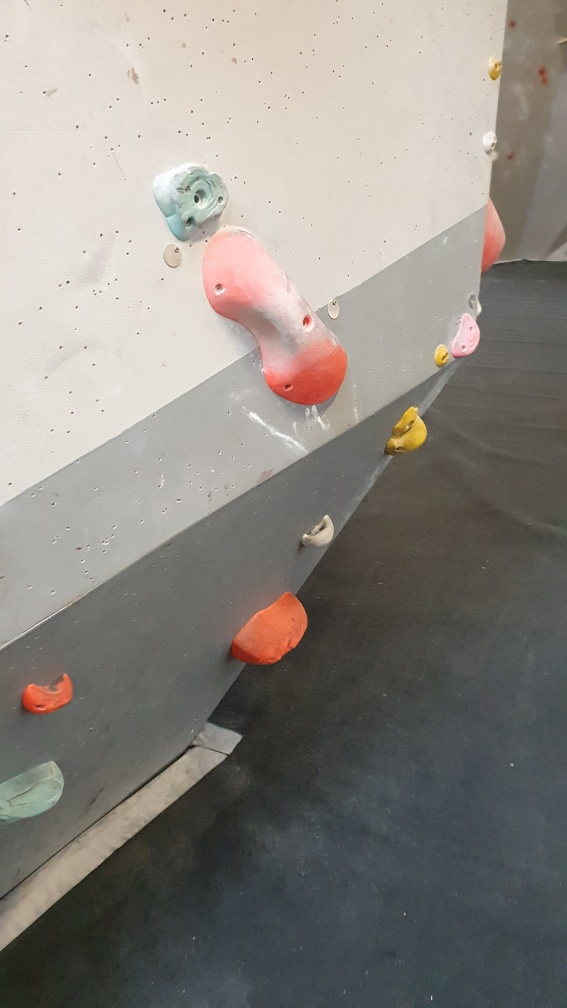Pinch: (199, 223, 351, 408)
